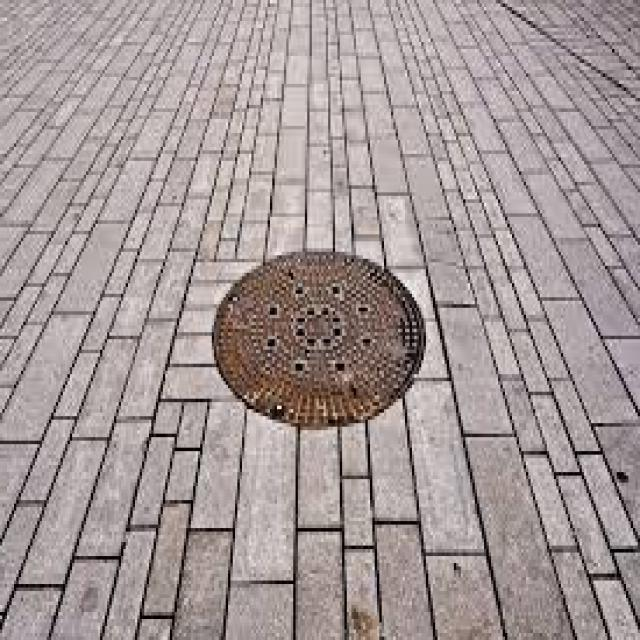Sewer Cover: (182, 218, 440, 497)
